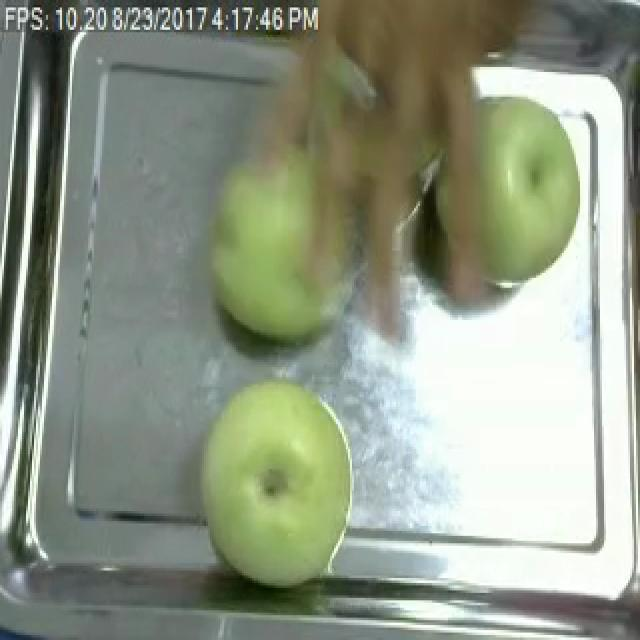50-_ripeness: (196, 389, 357, 581)
